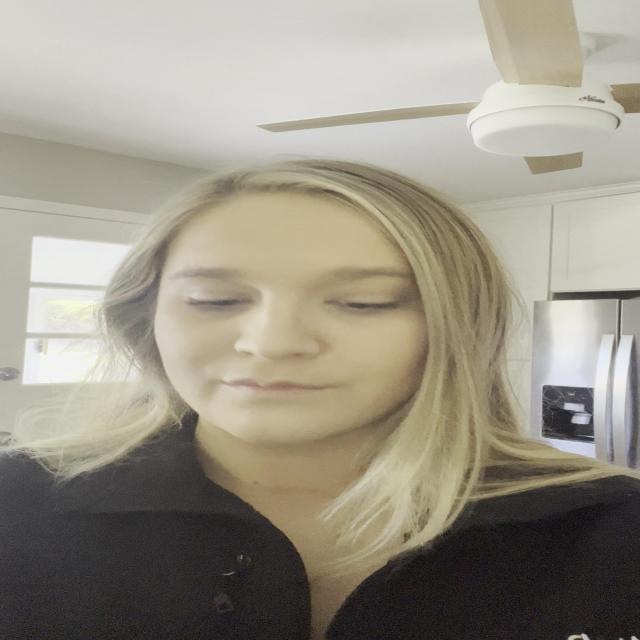no-helmet: (151, 194, 432, 446)
